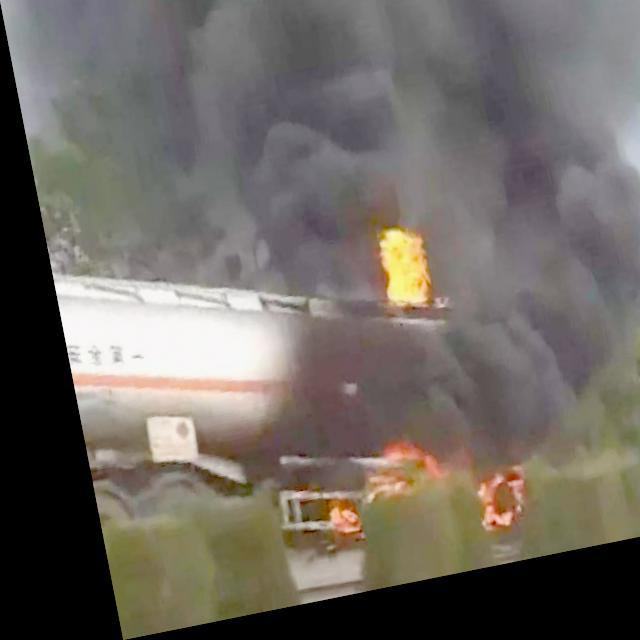Fire: (294, 428, 508, 576), (358, 228, 428, 342)
